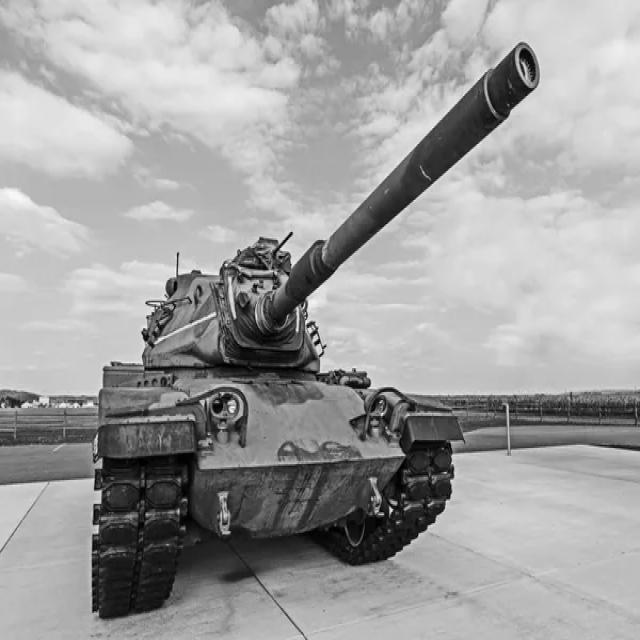Tank: (83, 42, 561, 623)
